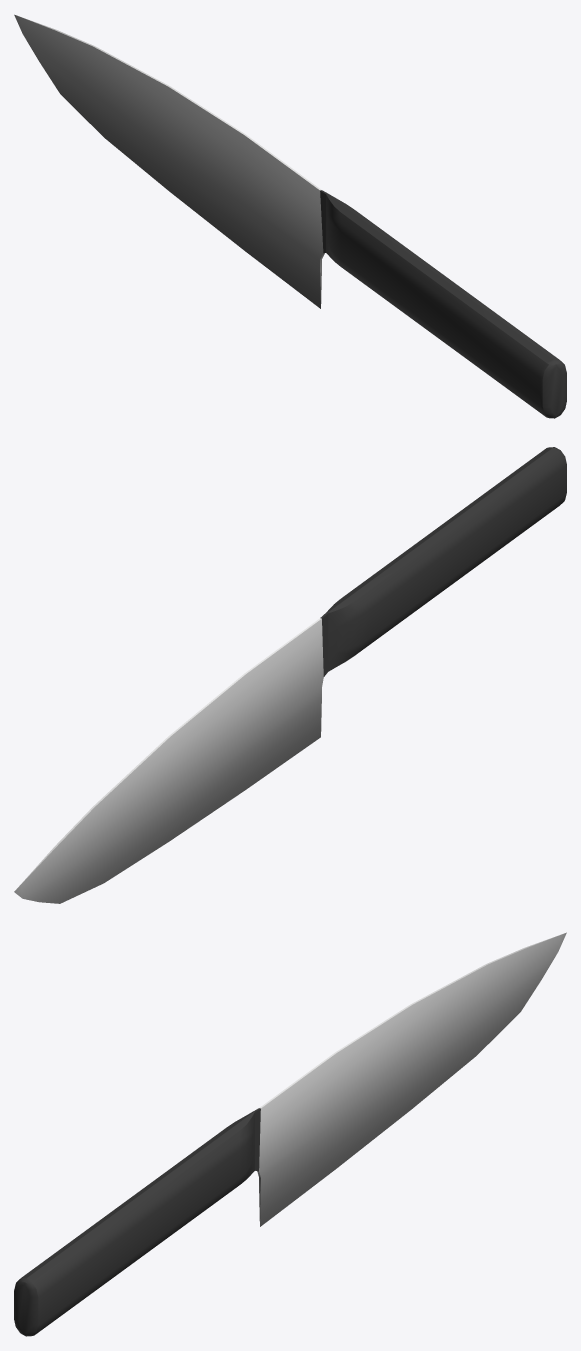
The model's file is Small Knife.fbx.
The picture shows the model from 3 angles, top to bottom: view 1: azimuth 30°, elevation 25°; view 2: azimuth 150°, elevation 25°; view 3: azimuth 330°, elevation 25°; orthographic projection.
Visible parts, largest first — view 1: Small Knife; view 2: Small Knife; view 3: Small Knife.
Boxes of the visible parts, <box> form: Small Knife: <box>14,14,566,418</box>; Small Knife: <box>14,447,566,903</box>; Small Knife: <box>14,932,566,1336</box>.
Bounding box in the file's own units: 1.17 × 5.11 × 41.95.
